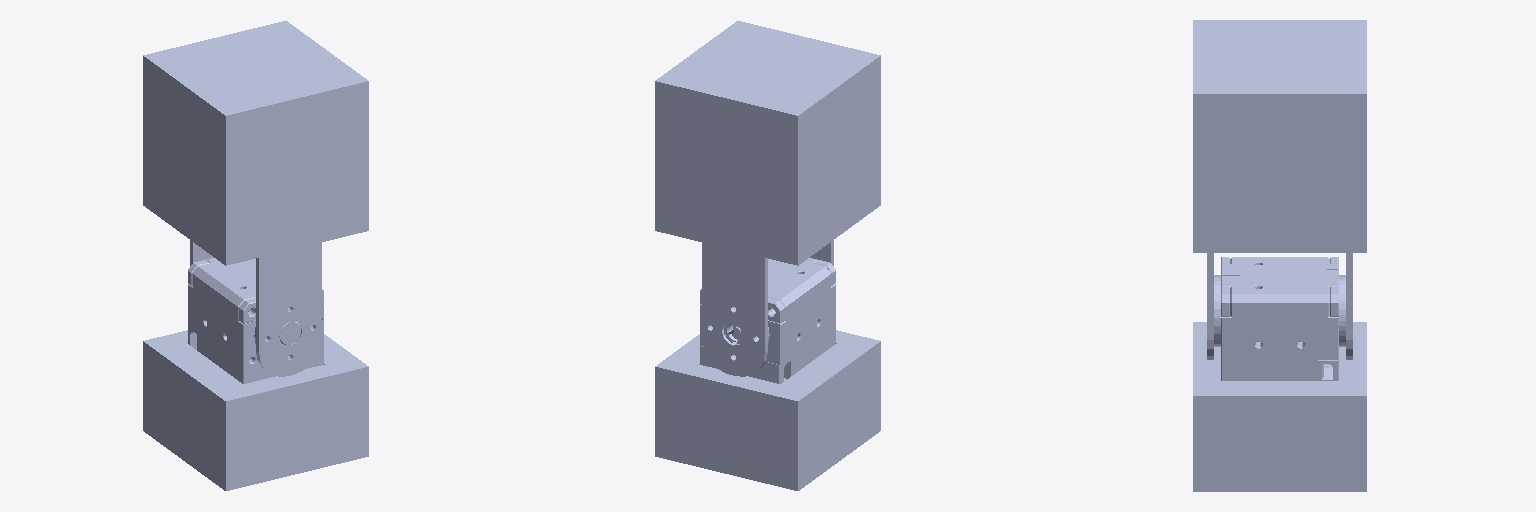
The robot description file, URDF, robot "manipulator1":
<?xml version="1.0" encoding="utf-8"?>
<robot
  name="manipulator1">
  <link
    name="base">
    <inertial>
      <origin
        xyz="-3.7509E-06 -0.00024161 0.022166"
        rpy="0 0 0" />
      <mass
        value="0.098358" />
      <inertia
        ixx="2.9075E-05"
        ixy="-5.2455E-09"
        ixz="4.4082E-09"
        iyy="2.8599E-05"
        iyz="2.5549E-07"
        izz="3.4442E-05" />
    </inertial>
    <visual>
      <origin
        xyz="0 0 0"
        rpy="0 0 0" />
      <geometry>
        <mesh
          filename="../meshes/base_link.STL" />
      </geometry>
      <material
        name="">
        <color
          rgba="0.79216 0.81961 0.93333 1" />
      </material>
    </visual>
    <collision>
      <origin
        xyz="0 0 0"
        rpy="0 0 0" />
      <geometry>
        <mesh
          filename="../meshes/base_link.STL" />
      </geometry>
    </collision>
  </link>
  <link
    name="link1">
    <inertial>
      <origin
        xyz="-1.6543E-18 0.05378 2.527E-18"
        rpy="0 0 0" />
      <mass
        value="0.12845" />
      <inertia
        ixx="6.0922E-05"
        ixy="-5.7618E-22"
        ixz="-6.1069E-22"
        iyy="5.3604E-05"
        iyz="9.5028E-22"
        izz="5.9681E-05" />
    </inertial>
    <visual>
      <origin
        xyz="0 0 0"
        rpy="0 0 0" />
      <geometry>
        <mesh
          filename="../meshes/link1_link.STL" />
      </geometry>
      <material
        name="">
        <color
          rgba="0.79216 0.81961 0.93333 1" />
      </material>
    </visual>
    <collision>
      <origin
        xyz="0 0 0"
        rpy="0 0 0" />
      <geometry>
        <mesh
          filename="../meshes/link1_link.STL" />
      </geometry>
    </collision>
  </link>
  <joint
    name="joint1"
    type="revolute">
    <origin
      xyz="0 0 0.04525"
      rpy="1.5708 0 0" />
    <parent
      link="base" />
    <child
      link="link1" />
    <axis
      xyz="0 0 1" />
    <limit
      lower="-3.14"
      upper="3.14"
      effort="0"
      velocity="0" />
  </joint>
</robot>

--- What the picture shows (computed from the rendered views, not written in the file) ---
3 views of the same robot in one strip: view 1: azimuth 30°, elevation 25°; view 2: azimuth 150°, elevation 25°; view 3: azimuth 270°, elevation 25° (orthographic).
Robot: manipulator1 — 2 links, 1 joints (1 revolute); root link base; default pose: all joints at 0.
Links seen in each view (by area): view 1: link1, base; view 2: link1, base; view 3: link1, base.
Boxes of the visible links, x1,y1,x2,y2 form: link1: (143,21,368,376); base: (143,258,368,490); link1: (655,21,880,376); base: (655,258,880,490); link1: (1193,20,1366,359); base: (1193,257,1366,491).
Bounding box of the posed robot: 0.05 × 0.05 × 0.1253 m (x, y, z).
2 mesh visuals loaded from 2 distinct referenced files (2 binary STL).